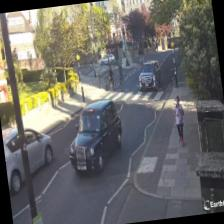person: (171, 95, 187, 145)
